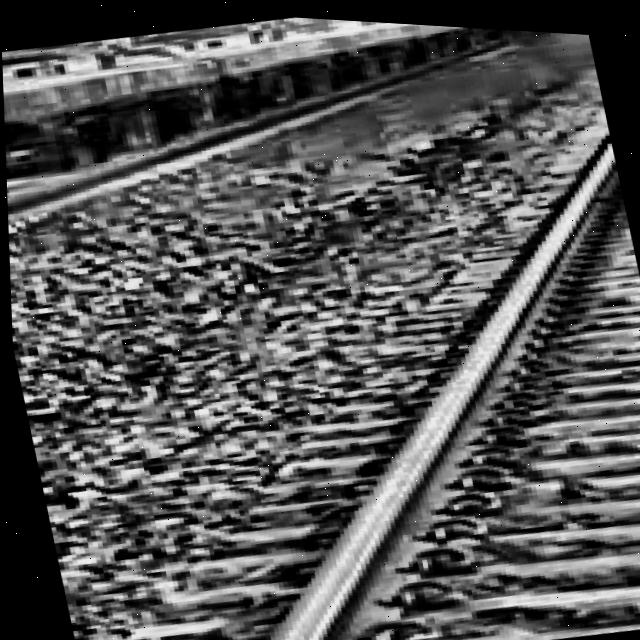Gerbong: (1, 26, 250, 224), (170, 8, 427, 135), (334, 16, 504, 86), (2, 84, 34, 328), (438, 20, 589, 50)
